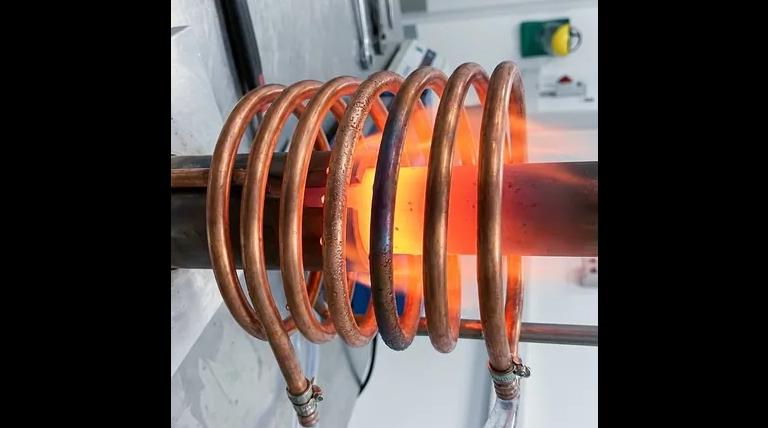controlled_fire: (312, 84, 566, 323)
